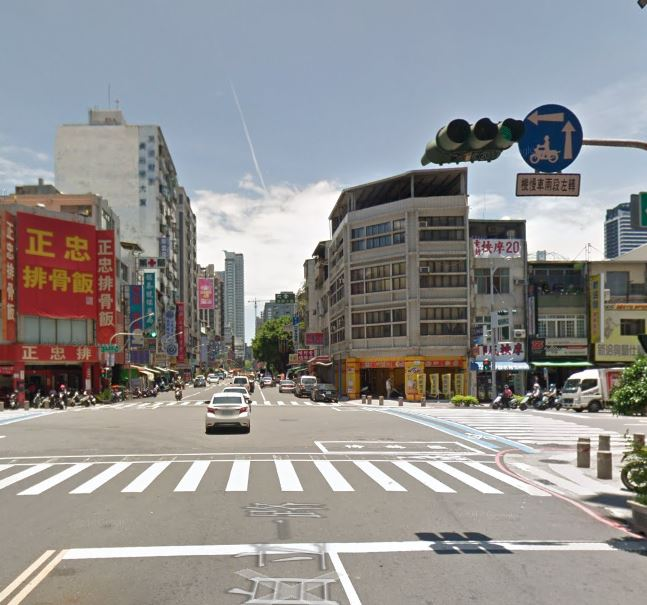Traffic_light_green: (419, 113, 522, 175)
car: (203, 392, 256, 437)
